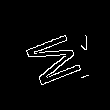M_SW: (7, 28, 76, 90)
